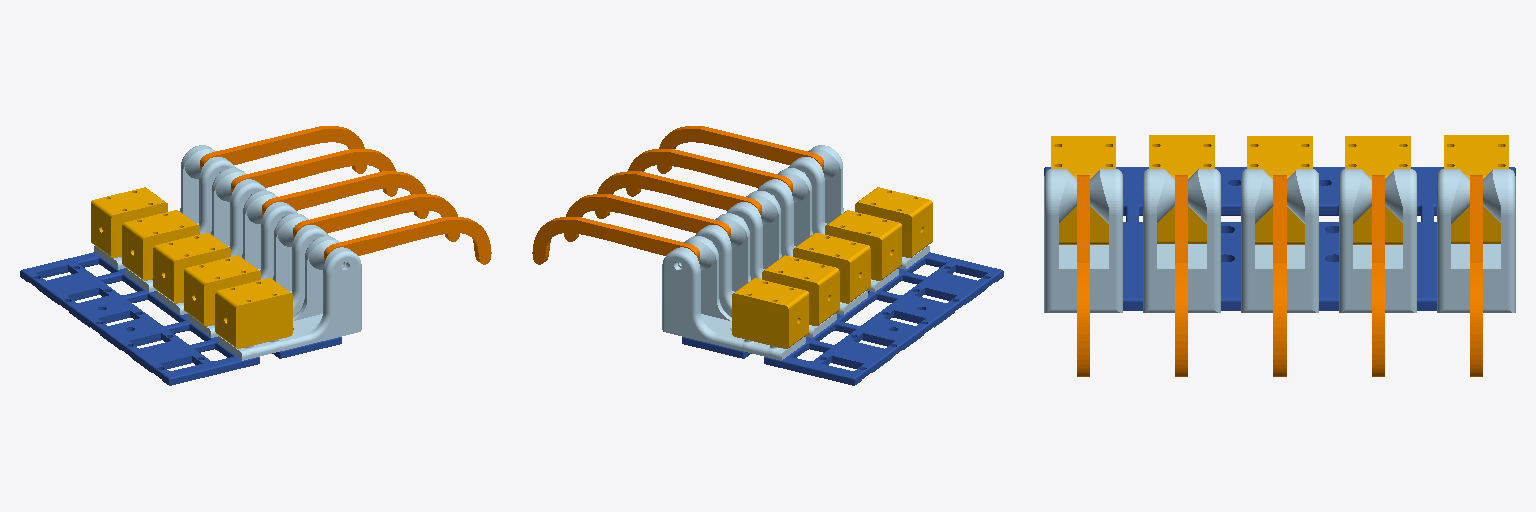
The robot description file, URDF, robot "bothoven":
<?xml version="1.0"?>
<robot name="bothoven">
    <link name="base_link"></link>
    <joint name="base_link_to_base" type="prismatic">
        <parent link="base_link"/>
        <child link="finger_mount_plate" />
        <origin rpy="0.0 0 0" xyz="0 0 0"/>
        <axis xyz="0 1 0"/>
        <limit effort="1" velocity="20" lower="-2.0" upper="2.0"/>
        <joint_properties friction="0.0"/>
    </joint>
    <link name="finger_mount_plate">
        <visual>
            <origin xyz="0.0023499287608851338049 0.033803517640591265736 -0.021799999999999989525" rpy="1.9958838398273146999e-16 -6.5938365254384542654e-32 0" />
            <geometry>
                <mesh filename="package://description/meshes/finger_mount_plate.stl"/>
            </geometry>
            <material name="finger_mount_plate_material">
                <color rgba="0.2313725490196078538 0.38039215686274507888 0.7058823529411765163 1.0"/>
            </material>
        </visual>
        <collision>
            <origin xyz="0.0023499287608851338049 0.033803517640591265736 -0.021799999999999989525" rpy="1.9958838398273146999e-16 -6.5938365254384542654e-32 0" />
            <geometry>
                <mesh filename="package://description/meshes/finger_mount_plate.stl"/>
            </geometry>
        </collision>
        <inertial>
            <origin xyz="-0.0016837484720910514662 1.4276240260882057901e-06 0.002106530059724595616" rpy="0 0 0"/>
            <mass value="0.11340578569099707407" />
            <inertia ixx="0.00029322260025943936834" ixy="3.5800312945825626543e-09" ixz="2.0984196496050321038e-07" iyy="0.00013425891623205000211" iyz="-9.0739848179879501565e-11" izz="0.00042640270506617979854" />
        </inertial>
    </link>

    <link name="large_finger">
        <visual>
            <origin xyz="1.249000902703301108e-16 0.024374519083739238506 -0.036000000000000004219" rpy="-7.2857929796164516794e-31 -4.379057701015107798e-47 3.141592653589793116" />
            <geometry>
                <mesh filename="package://description/meshes/large_solenoid.stl"/>
            </geometry>
            <material name="large_solenoid_material">
                <color rgba="0.98039215686274505668 0.71372549019607844922 0.0039215686274509803377 1.0"/>
            </material>
        </visual>
        <collision>
            <origin xyz="1.249000902703301108e-16 0.024374519083739238506 -0.036000000000000004219" rpy="-7.2857929796164516794e-31 -4.379057701015107798e-47 3.141592653589793116" />
            <geometry>
                <mesh filename="package://description/meshes/large_solenoid.stl"/>
            </geometry>
        </collision>
        <visual>
            <origin xyz="1.3877787807814456755e-17 0.0077594027759290487567 0" rpy="3.141592653589793116 -0 -4.4742338604764904719e-53" />
            <geometry>
                <mesh filename="package://description/meshes/large_finger.stl"/>
            </geometry>
            <material name="large_finger_material">
                <color rgba="0.76862745098039220171 0.88627450980392152857 0.95294117647058818044 1.0"/>
            </material>
        </visual>
        <collision>
            <origin xyz="1.3877787807814456755e-17 0.0077594027759290487567 0" rpy="3.141592653589793116 -0 -4.4742338604764904719e-53" />
            <geometry>
                <mesh filename="package://description/meshes/large_finger.stl"/>
            </geometry>
        </collision>
        <inertial>
            <origin xyz="-4.7069857418904347498e-07 0.023476208506192974834 -0.021307554751111033864" rpy="0 0 0"/>
            <mass value="0.55984193934830450701" />
            <inertia ixx="0.00019837195303918920804" ixy="-1.3999261178294412501e-08" ixz="-6.5821649450970939947e-09" iyy="7.9419732517482197762e-05" iyz="-2.7270662434362043428e-06" izz="0.00018037934580199610295" />
        </inertial>
    </link>

    <link name="finger_arm_large">
        <visual>
            <origin xyz="0.063368257669539268528 -5.4787295081876186131e-05 -0.0049999999999999905631" rpy="0 -1.8998849924420838071e-32 0" />
            <geometry>
                <mesh filename="package://description/meshes/finger_arm_large.stl"/>
            </geometry>
            <material name="finger_arm_large_material">
                <color rgba="0.97254901960784312376 0.52941176470588235947 0.0039215686274509803377 1.0"/>
            </material>
        </visual>
        <collision>
            <origin xyz="0.063368257669539268528 -5.4787295081876186131e-05 -0.0049999999999999905631" rpy="0 -1.8998849924420838071e-32 0" />
            <geometry>
                <mesh filename="package://description/meshes/finger_arm_large.stl"/>
            </geometry>
        </collision>
        <inertial>
            <origin xyz="0.051327194737765834132 -0.0021301611848530605832 -0.0025000197144712113864" rpy="0 0 0"/>
            <mass value="0.007972723597301041229" />
            <inertia ixx="5.9298578433162374603e-07" ixy="7.2370069362940236446e-07" ixz="-1.314527374475747138e-11" iyy="1.1055709395186793815e-05" iyz="-3.8580036837104497661e-12" izz="1.1616703844229354562e-05" />
        </inertial>
    </link>

    <joint name="Finger_Arm1" type="revolute">
        <origin xyz="0.0025000000000000022204 -0.029631554039493041702 -0.046304046845760712947" rpy="-1.570796326794896558 6.9388939039072776815e-18 -1.5707963267948970021" />
        <parent link="large_finger" />
        <child link="finger_arm_large" />
        <axis xyz="0 0 1"/>
        <limit effort="1" velocity="20" lower="-0.52359877559829881566" upper="0"/>
        <joint_properties friction="0.0"/>
    </joint>

    <joint name="Finger_Mount1" type="revolute">
        <origin xyz="0.025323819514354840854 0.075003517640591363391 0.0050000000000000044409" rpy="3.141592653589793116 -1.4425215283460216998e-31 -1.570796326794896558" />
        <parent link="finger_mount_plate" />
        <child link="large_finger" />
        <axis xyz="0 0 1"/>
        <limit effort="1" velocity="20" lower="-0.087266462599716473902" upper="0.087266462599716473902"/>
        <joint_properties friction="0.0"/>
    </joint>

    <link name="large_finger_2">
        <visual>
            <origin xyz="0 0.027625480916260842373 -0.036000000000000004219" rpy="0 -0 0" />
            <geometry>
                <mesh filename="package://description/meshes/large_solenoid.stl"/>
            </geometry>
            <material name="large_solenoid_material">
                <color rgba="0.98039215686274505668 0.71372549019607844922 0.0039215686274509803377 1.0"/>
            </material>
        </visual>
        <collision>
            <origin xyz="0 0.027625480916260842373 -0.036000000000000004219" rpy="0 -0 0" />
            <geometry>
                <mesh filename="package://description/meshes/large_solenoid.stl"/>
            </geometry>
        </collision>
        <visual>
            <origin xyz="6.9388939039072283776e-18 0.0077594027759290487567 0" rpy="3.141592653589793116 -0 0" />
            <geometry>
                <mesh filename="package://description/meshes/large_finger.stl"/>
            </geometry>
            <material name="large_finger_material">
                <color rgba="0.76862745098039220171 0.88627450980392152857 0.95294117647058818044 1.0"/>
            </material>
        </visual>
        <collision>
            <origin xyz="6.9388939039072283776e-18 0.0077594027759290487567 0" rpy="3.141592653589793116 -0 0" />
            <geometry>
                <mesh filename="package://description/meshes/large_finger.stl"/>
            </geometry>
        </collision>
        <inertial>
            <origin xyz="-4.7069857430633196836e-07 0.022992118159579102293 -0.021307554751111033864" rpy="0 0 0"/>
            <mass value="0.55984193934830450701" />
            <inertia ixx="0.0001968727916881294498" ixy="-1.387169523777063066e-08" ixz="-6.5821649451089830616e-09" iyy="7.941973251748379696e-05" iyz="-2.7792216152194113478e-06" izz="0.00017888018445093371552" />
        </inertial>
    </link>

    <link name="finger_arm_large_2">
        <visual>
            <origin xyz="0.063368257669539268528 -5.4787295081876186131e-05 -0.004999999999999997502" rpy="0 -0 0" />
            <geometry>
                <mesh filename="package://description/meshes/finger_arm_large.stl"/>
            </geometry>
            <material name="finger_arm_large_material">
                <color rgba="0.97254901960784312376 0.52941176470588235947 0.0039215686274509803377 1.0"/>
            </material>
        </visual>
        <collision>
            <origin xyz="0.063368257669539268528 -5.4787295081876186131e-05 -0.004999999999999997502" rpy="0 -0 0" />
            <geometry>
                <mesh filename="package://description/meshes/finger_arm_large.stl"/>
            </geometry>
        </collision>
        <inertial>
            <origin xyz="0.051327194737765834132 -0.0021301611848530605832 -0.0025000197144712183253" rpy="0 0 0"/>
            <mass value="0.007972723597301041229" />
            <inertia ixx="5.9298578433162374603e-07" ixy="7.2370069362940236446e-07" ixz="-1.314527374475747138e-11" iyy="1.1055709395186793815e-05" iyz="-3.8580036837104497661e-12" izz="1.1616703844229354562e-05" />
        </inertial>
    </link>

    <joint name="Finger_Arm2" type="revolute">
        <origin xyz="0.0024999999999999952816 -0.029631554039493024355 -0.046304046845760706008" rpy="-1.570796326794896558 -0 -1.5707963267948970021" />
        <parent link="large_finger_2" />
        <child link="finger_arm_large_2" />
        <axis xyz="0 0 1"/>
        <limit effort="1" velocity="20" lower="-0.52359877559829881566" upper="0"/>
        <joint_properties friction="0.0"/>
    </joint>

    <joint name="Finger_Mount2" type="revolute">
        <origin xyz="0.025323819514354750648 0.037503517640591260696 0.0050000000000000044409" rpy="3.141592653589793116 -0 -1.570796326794896558" />
        <parent link="finger_mount_plate" />
        <child link="large_finger_2" />
        <axis xyz="0 0 1"/>
        <limit effort="1" velocity="20" lower="-0.087266462599716473902" upper="0.087266462599716473902"/>
        <joint_properties friction="0.0"/>
    </joint>

    <link name="large_finger_3">
        <visual>
            <origin xyz="7.8062556418956319249e-18 0.0077594027759290487567 0" rpy="3.141592653589793116 -0 0" />
            <geometry>
                <mesh filename="package://description/meshes/large_finger.stl"/>
            </geometry>
            <material name="large_finger_material">
                <color rgba="0.76862745098039220171 0.88627450980392152857 0.95294117647058818044 1.0"/>
            </material>
        </visual>
        <collision>
            <origin xyz="7.8062556418956319249e-18 0.0077594027759290487567 0" rpy="3.141592653589793116 -0 0" />
            <geometry>
                <mesh filename="package://description/meshes/large_finger.stl"/>
            </geometry>
        </collision>
        <visual>
            <origin xyz="-4.336808689942017736e-18 0.027625480916260842373 -0.036000000000000004219" rpy="0 -0 -1.7763568394002437594e-15" />
            <geometry>
                <mesh filename="package://description/meshes/large_solenoid.stl"/>
            </geometry>
            <material name="large_solenoid_material">
                <color rgba="0.98039215686274505668 0.71372549019607844922 0.0039215686274509803377 1.0"/>
            </material>
        </visual>
        <collision>
            <origin xyz="-4.336808689942017736e-18 0.027625480916260842373 -0.036000000000000004219" rpy="0 -0 -1.7763568394002437594e-15" />
            <geometry>
                <mesh filename="package://description/meshes/large_solenoid.stl"/>
            </geometry>
        </collision>
        <inertial>
            <origin xyz="-4.7069857430720303587e-07 0.022992118159579102293 -0.021307554751111033864" rpy="0 0 0"/>
            <mass value="0.55984193934830450701" />
            <inertia ixx="0.00019687279168813091347" ixy="-1.3871695238069835122e-08" ixz="-6.5821649451091700044e-09" iyy="7.941973251748379696e-05" iyz="-2.7792216152194113478e-06" izz="0.00017888018445093371552" />
        </inertial>
    </link>

    <link name="finger_arm_large_3">
        <visual>
            <origin xyz="0.063368257669539268528 -5.4787295081876186131e-05 -0.0049999999999999992367" rpy="0 -0 -6.1911101702353887834e-63" />
            <geometry>
                <mesh filename="package://description/meshes/finger_arm_large.stl"/>
            </geometry>
            <material name="finger_arm_large_material">
                <color rgba="0.97254901960784312376 0.52941176470588235947 0.0039215686274509803377 1.0"/>
            </material>
        </visual>
        <collision>
            <origin xyz="0.063368257669539268528 -5.4787295081876186131e-05 -0.0049999999999999992367" rpy="0 -0 -6.1911101702353887834e-63" />
            <geometry>
                <mesh filename="package://description/meshes/finger_arm_large.stl"/>
            </geometry>
        </collision>
        <inertial>
            <origin xyz="0.051327194737765834132 -0.0021301611848530605832 -0.00250001971447122006" rpy="0 0 0"/>
            <mass value="0.007972723597301041229" />
            <inertia ixx="5.9298578433162374603e-07" ixy="7.2370069362940236446e-07" ixz="-1.314527374475747138e-11" iyy="1.1055709395186793815e-05" iyz="-3.8580036837104497661e-12" izz="1.1616703844229354562e-05" />
        </inertial>
    </link>

    <joint name="Finger_Arm3" type="revolute">
        <origin xyz="0.0024999999999999970163 -0.029631554039493031294 -0.046304046845760712947" rpy="-1.570796326794896558 -0 -1.5707963267948970021" />
        <parent link="large_finger_3" />
        <child link="finger_arm_large_3" />
        <axis xyz="0 0 1"/>
        <limit effort="1" velocity="20" lower="-0.52359877559829881566" upper="0"/>
        <joint_properties friction="0.0"/>
    </joint>

    <joint name="Finger_Mount3" type="revolute">
        <origin xyz="0.025323819514354743709 3.517640591228256286e-06 0.0050000000000000044409" rpy="3.141592653589793116 -0 -1.570796326794896558" />
        <parent link="finger_mount_plate" />
        <child link="large_finger_3" />
        <axis xyz="0 0 1"/>
        <limit effort="1" velocity="20" lower="-0.087266462599716473902" upper="0.087266462599716473902"/>
        <joint_properties friction="0.0"/>
    </joint>

    <link name="large_finger_4">
        <visual>
            <origin xyz="6.9388939039072283776e-18 0.0077594027759290487567 0" rpy="3.141592653589793116 -0 0" />
            <geometry>
                <mesh filename="package://description/meshes/large_finger.stl"/>
            </geometry>
            <material name="large_finger_material">
                <color rgba="0.76862745098039220171 0.88627450980392152857 0.95294117647058818044 1.0"/>
            </material>
        </visual>
        <collision>
            <origin xyz="6.9388939039072283776e-18 0.0077594027759290487567 0" rpy="3.141592653589793116 -0 0" />
            <geometry>
                <mesh filename="package://description/meshes/large_finger.stl"/>
            </geometry>
        </collision>
        <visual>
            <origin xyz="-6.9388939039072283776e-18 0.024374519083739110137 -0.0069999999999999992784" rpy="3.141592653589793116 -0 4.4408920985006212313e-16" />
            <geometry>
                <mesh filename="package://description/meshes/large_solenoid.stl"/>
            </geometry>
            <material name="large_solenoid_material">
                <color rgba="0.98039215686274505668 0.71372549019607844922 0.0039215686274509803377 1.0"/>
            </material>
        </visual>
        <collision>
            <origin xyz="-6.9388939039072283776e-18 0.024374519083739110137 -0.0069999999999999992784" rpy="3.141592653589793116 -0 4.4408920985006212313e-16" />
            <geometry>
                <mesh filename="package://description/meshes/large_solenoid.stl"/>
            </geometry>
        </collision>
        <inertial>
            <origin xyz="-4.7069857431204345859e-07 0.02347620850619287769 -0.021307554751111040803" rpy="0 0 0"/>
            <mass value="0.55984193934830450701" />
            <inertia ixx="0.00019837195303919189144" ixy="-1.3999261178038125477e-08" ixz="-6.5821649451095960024e-09" iyy="7.941973251748379696e-05" iyz="-2.7270662434362056134e-06" izz="0.0001803793458019958048" />
        </inertial>
    </link>

    <link name="finger_arm_large_4">
        <visual>
            <origin xyz="0.063368257669539268528 -5.4787295081876186131e-05 -0.004999999999999997502" rpy="0 -0 0" />
            <geometry>
                <mesh filename="package://description/meshes/finger_arm_large.stl"/>
            </geometry>
            <material name="finger_arm_large_material">
                <color rgba="0.97254901960784312376 0.52941176470588235947 0.0039215686274509803377 1.0"/>
            </material>
        </visual>
        <collision>
            <origin xyz="0.063368257669539268528 -5.4787295081876186131e-05 -0.004999999999999997502" rpy="0 -0 0" />
            <geometry>
                <mesh filename="package://description/meshes/finger_arm_large.stl"/>
            </geometry>
        </collision>
        <inertial>
            <origin xyz="0.051327194737765834132 -0.0021301611848530605832 -0.0025000197144712183253" rpy="0 0 0"/>
            <mass value="0.007972723597301041229" />
            <inertia ixx="5.9298578433162374603e-07" ixy="7.2370069362940236446e-07" ixz="-1.314527374475747138e-11" iyy="1.1055709395186793815e-05" iyz="-3.8580036837104497661e-12" izz="1.1616703844229354562e-05" />
        </inertial>
    </link>

    <joint name="Finger_Arm4" type="revolute">
        <origin xyz="0.0024999999999999952816 -0.029631554039493031294 -0.046304046845760712947" rpy="-1.570796326794896558 -0 -1.5707963267948970021" />
        <parent link="large_finger_4" />
        <child link="finger_arm_large_4" />
        <axis xyz="0 0 1"/>
        <limit effort="1" velocity="20" lower="-0.52359877559829881566" upper="0"/>
        <joint_properties friction="0.0"/>
    </joint>

    <joint name="Finger_Mount4" type="revolute">
        <origin xyz="0.025323819514354743709 -0.037496482359408812857 0.0050000000000000044409" rpy="3.141592653589793116 -0 -1.570796326794896558" />
        <parent link="finger_mount_plate" />
        <child link="large_finger_4" />
        <axis xyz="0 0 1"/>
        <limit effort="1" velocity="20" lower="-0.087266462599716473902" upper="0.087266462599716473902"/>
        <joint_properties friction="0.0"/>
    </joint>

    <link name="large_finger_5">
        <visual>
            <origin xyz="0 0.027625480916260845843 -0.036000000000000004219" rpy="0 -0 0" />
            <geometry>
                <mesh filename="package://description/meshes/large_solenoid.stl"/>
            </geometry>
            <material name="large_solenoid_material">
                <color rgba="0.98039215686274505668 0.71372549019607844922 0.0039215686274509803377 1.0"/>
            </material>
        </visual>
        <collision>
            <origin xyz="0 0.027625480916260845843 -0.036000000000000004219" rpy="0 -0 0" />
            <geometry>
                <mesh filename="package://description/meshes/large_solenoid.stl"/>
            </geometry>
        </collision>
        <visual>
            <origin xyz="1.3877787807814456755e-17 0.0077594027759290487567 0" rpy="3.141592653589793116 -0 0" />
            <geometry>
                <mesh filename="package://description/meshes/large_finger.stl"/>
            </geometry>
            <material name="large_finger_material">
                <color rgba="0.76862745098039220171 0.88627450980392152857 0.95294117647058818044 1.0"/>
            </material>
        </visual>
        <collision>
            <origin xyz="1.3877787807814456755e-17 0.0077594027759290487567 0" rpy="3.141592653589793116 -0 0" />
            <geometry>
                <mesh filename="package://description/meshes/large_finger.stl"/>
            </geometry>
        </collision>
        <inertial>
            <origin xyz="-4.7069857430588769958e-07 0.022992118159579109232 -0.021307554751111033864" rpy="0 0 0"/>
            <mass value="0.55984193934830450701" />
            <inertia ixx="0.0001968727916881294498" ixy="-1.3871695237760633355e-08" ixz="-6.5821649451096828564e-09" iyy="7.941973251748379696e-05" iyz="-2.7792216152194117713e-06" izz="0.00017888018445093371552" />
        </inertial>
    </link>

    <link name="finger_arm_large_5">
        <visual>
            <origin xyz="0.063368257669539268528 -5.4787295081876186131e-05 -0.0050000000000000044409" rpy="0 -0 0" />
            <geometry>
                <mesh filename="package://description/meshes/finger_arm_large.stl"/>
            </geometry>
            <material name="finger_arm_large_material">
                <color rgba="0.97254901960784312376 0.52941176470588235947 0.0039215686274509803377 1.0"/>
            </material>
        </visual>
        <collision>
            <origin xyz="0.063368257669539268528 -5.4787295081876186131e-05 -0.0050000000000000044409" rpy="0 -0 0" />
            <geometry>
                <mesh filename="package://description/meshes/finger_arm_large.stl"/>
            </geometry>
        </collision>
        <inertial>
            <origin xyz="0.051327194737765834132 -0.0021301611848530605832 -0.0025000197144712252642" rpy="0 0 0"/>
            <mass value="0.007972723597301041229" />
            <inertia ixx="5.9298578433162374603e-07" ixy="7.2370069362940236446e-07" ixz="-1.314527374475747138e-11" iyy="1.1055709395186793815e-05" iyz="-3.8580036837104497661e-12" izz="1.1616703844229354562e-05" />
        </inertial>
    </link>

    <joint name="Finger_Arm5" type="revolute">
        <origin xyz="0.0025000000000000022204 -0.029631554039493031294 -0.046304046845760719886" rpy="-1.570796326794896558 -0 -1.5707963267948970021" />
        <parent link="large_finger_5" />
        <child link="finger_arm_large_5" />
        <axis xyz="0 0 1"/>
        <limit effort="1" velocity="20" lower="-0.52359877559829881566" upper="0"/>
        <joint_properties friction="0.0"/>
    </joint>

    <joint name="Finger_Mount5" type="revolute">
        <origin xyz="0.025323819514354743709 -0.074996482359408839224 0.0050000000000000044409" rpy="3.141592653589793116 -0 -1.570796326794896558" />
        <parent link="finger_mount_plate" />
        <child link="large_finger_5" />
        <axis xyz="0 0 1"/>
        <limit effort="1" velocity="20" lower="-0.087266462599716473902" upper="0.087266462599716473902"/>
        <joint_properties friction="0.0"/>
    </joint>
</robot>

--- Facts derived from the render (not from the file) ---
Views: 3 orthographic renders of the robot side by side, from view 1: azimuth 30°, elevation 25°; view 2: azimuth 150°, elevation 25°; view 3: azimuth 270°, elevation 25°.
Robot: bothoven — 12 links, 11 joints (10 revolute, 1 prismatic); root link base_link; default pose: every joint at zero.
Links seen in each view (by area): view 1: finger_mount_plate, large_finger_5, large_finger_4, large_finger_3, large_finger_2, large_finger, finger_arm_large_5, finger_arm_large, finger_arm_large_4, finger_arm_large_3, finger_arm_large_2; view 2: finger_mount_plate, large_finger, large_finger_2, large_finger_5, large_finger_3, large_finger_4, finger_arm_large, finger_arm_large_5, finger_arm_large_2, finger_arm_large_3, finger_arm_large_4; view 3: large_finger, large_finger_5, large_finger_4, large_finger_2, large_finger_3, finger_mount_plate, finger_arm_large_3, finger_arm_large, finger_arm_large_2, finger_arm_large_4, finger_arm_large_5.
Boxes of the visible links, left/top/right/bottom form: finger_mount_plate: left=20, top=252, right=341, bottom=385; large_finger_5: left=215, top=236, right=361, bottom=360; large_finger_4: left=184, top=213, right=328, bottom=337; large_finger_3: left=153, top=191, right=296, bottom=314; large_finger_2: left=122, top=168, right=266, bottom=292; large_finger: left=91, top=145, right=235, bottom=269; finger_arm_large_5: left=324, top=217, right=491, bottom=264; finger_arm_large: left=200, top=126, right=366, bottom=173; finger_arm_large_4: left=293, top=194, right=459, bottom=241; finger_arm_large_3: left=262, top=171, right=428, bottom=218; finger_arm_large_2: left=231, top=149, right=397, bottom=196; finger_mount_plate: left=682, top=252, right=1003, bottom=385; large_finger: left=662, top=236, right=808, bottom=360; large_finger_2: left=695, top=213, right=839, bottom=337; large_finger_5: left=788, top=145, right=932, bottom=269; large_finger_3: left=727, top=191, right=870, bottom=314; large_finger_4: left=757, top=168, right=901, bottom=292; finger_arm_large: left=532, top=217, right=699, bottom=264; finger_arm_large_5: left=657, top=126, right=823, bottom=173; finger_arm_large_2: left=564, top=194, right=730, bottom=241; finger_arm_large_3: left=595, top=171, right=761, bottom=218; finger_arm_large_4: left=626, top=149, right=792, bottom=196; large_finger: left=1437, top=135, right=1515, bottom=312; large_finger_5: left=1044, top=136, right=1122, bottom=312; large_finger_4: left=1143, top=135, right=1220, bottom=312; large_finger_2: left=1339, top=136, right=1416, bottom=312; large_finger_3: left=1241, top=136, right=1318, bottom=312; finger_mount_plate: left=1044, top=167, right=1515, bottom=310; finger_arm_large_3: left=1273, top=175, right=1286, bottom=376; finger_arm_large: left=1470, top=175, right=1482, bottom=376; finger_arm_large_2: left=1372, top=175, right=1384, bottom=376; finger_arm_large_4: left=1175, top=175, right=1187, bottom=376; finger_arm_large_5: left=1077, top=175, right=1089, bottom=376.
Size in the robot's own frame: 0.2321 by 0.18 by 0.0685 metres.
16 mesh visuals loaded from 4 distinct referenced files (4 binary STL).
